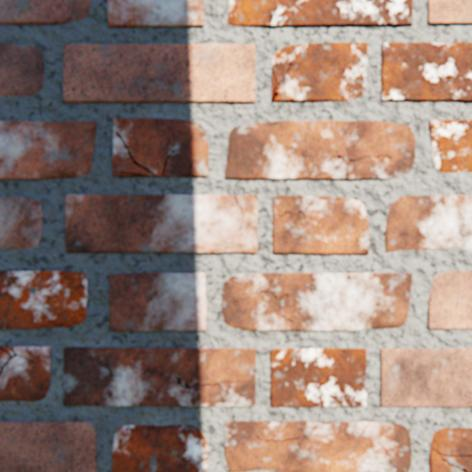brick: (64, 44, 255, 103), (65, 347, 256, 406), (226, 121, 414, 180), (66, 195, 257, 253), (222, 273, 411, 330), (225, 420, 410, 471), (273, 195, 368, 254), (272, 43, 367, 102), (0, 122, 97, 179), (271, 348, 366, 406), (110, 273, 206, 330), (113, 119, 209, 176), (381, 43, 471, 102), (380, 348, 471, 406), (228, 0, 411, 28), (0, 271, 88, 328), (0, 421, 97, 471), (385, 195, 471, 251), (113, 424, 208, 471), (0, 346, 51, 400), (108, 0, 204, 28), (427, 271, 471, 328), (0, 44, 45, 96), (0, 0, 91, 25), (0, 197, 44, 248), (429, 120, 471, 173), (429, 427, 471, 471), (427, 0, 471, 25), (441, 455, 471, 469), (0, 346, 10, 371), (3, 346, 14, 355)
crack: (117, 132, 156, 176), (0, 346, 36, 376), (176, 377, 233, 393), (432, 448, 471, 471), (272, 61, 294, 101), (163, 151, 175, 176), (253, 280, 270, 294), (337, 155, 362, 164), (279, 307, 292, 321), (279, 210, 305, 216), (234, 195, 242, 210), (120, 172, 148, 176), (257, 435, 279, 440), (279, 293, 288, 303), (364, 155, 391, 158), (281, 437, 296, 440)
